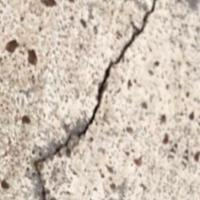crack: (29, 0, 169, 199)
